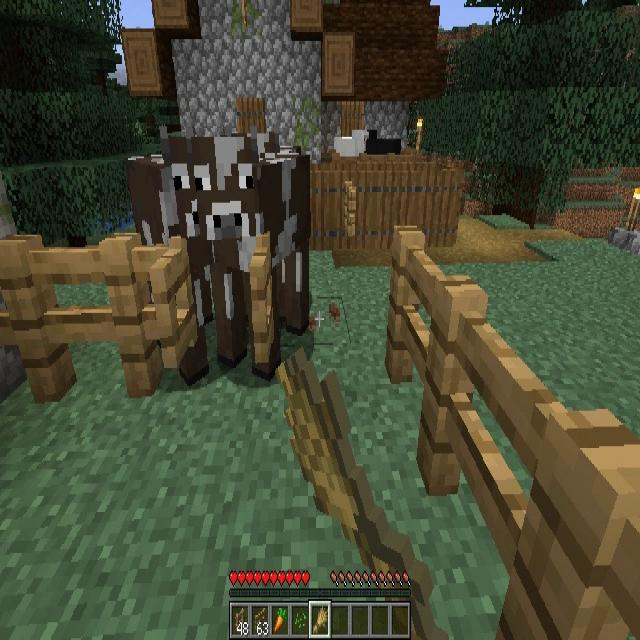cow: (198, 141, 308, 357), (131, 130, 213, 322)
sheep: (366, 130, 402, 157), (333, 132, 367, 158)
